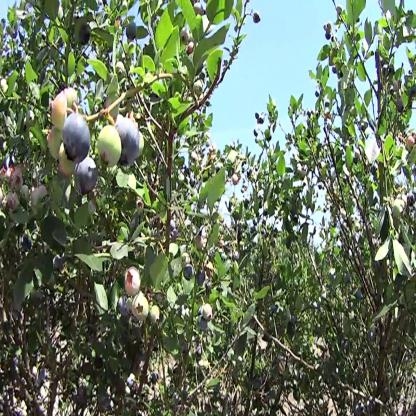intermediate: (47, 91, 67, 128), (127, 266, 144, 291), (406, 134, 416, 148)
mature: (118, 115, 142, 168), (63, 116, 90, 160), (76, 156, 98, 196), (118, 296, 130, 315), (183, 267, 195, 280)
young: (97, 127, 123, 169), (133, 290, 150, 327), (201, 300, 217, 319)
